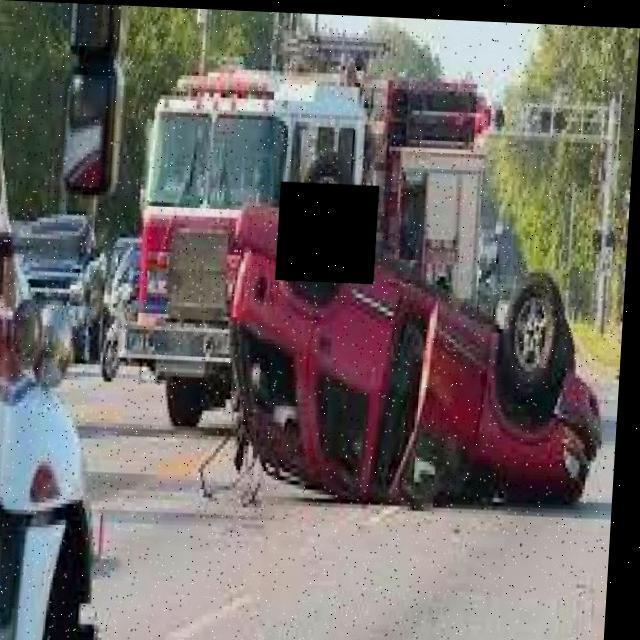single accident: (234, 174, 640, 577)
